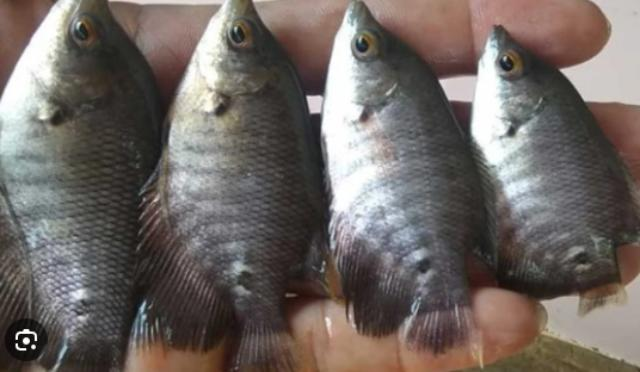Mulut: (456, 2, 542, 70), (318, 1, 406, 64)
Sirip Anal: (118, 155, 242, 362), (310, 189, 418, 351)
Sirip Ekor: (397, 276, 495, 372), (198, 301, 326, 372), (562, 242, 634, 330)
